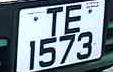1: (25, 37, 38, 72)
3: (75, 31, 92, 60)
5: (37, 36, 58, 72)
7: (56, 34, 77, 64)
E: (64, 2, 84, 34)
T: (43, 5, 65, 35)
